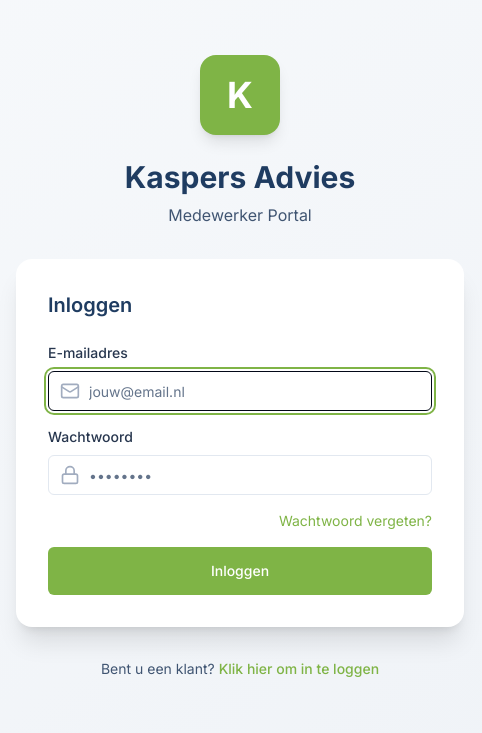
LoginPage › error handling › displays fallback error message when error has no message
In the field with placeholder "jouw@email.nl": x=240, y=391 [48,371,432,411], type "test@example.com"
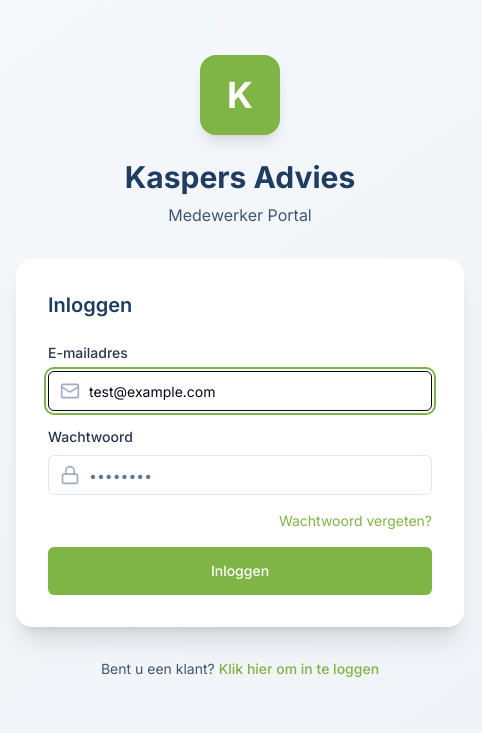
In the password field with placeholder "••••••••": x=240, y=475 [48,455,432,495], type "password"
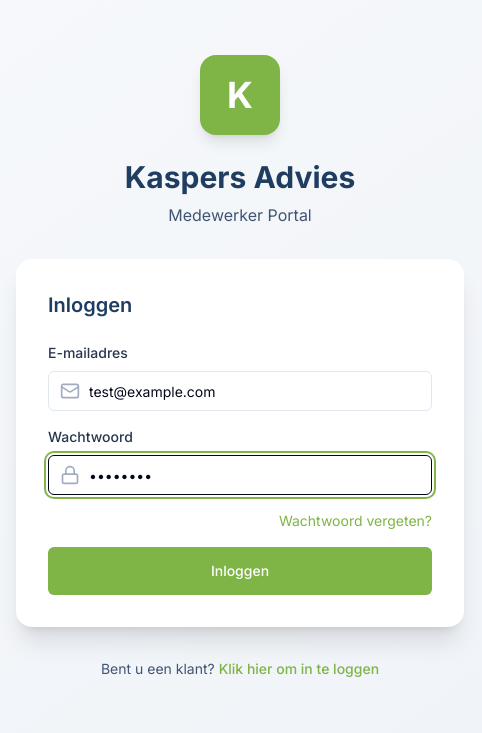
Click the button "Inloggen": x=240, y=571 [48,547,432,595]
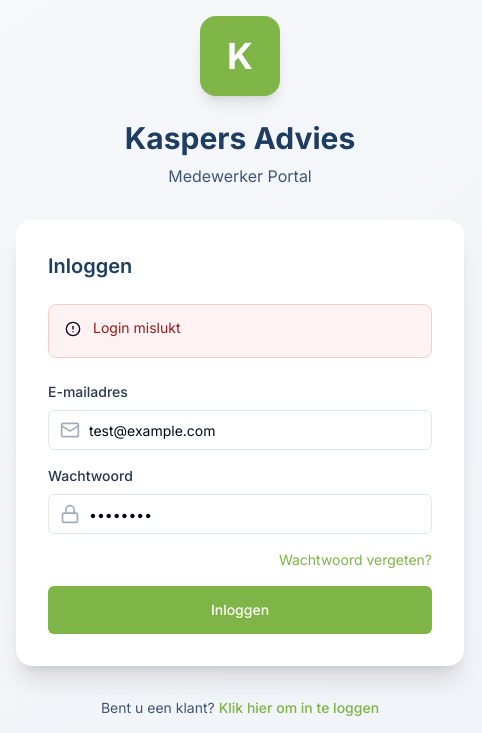
Check: the text "Login mislukt" is shown, box [93,319,180,336]
